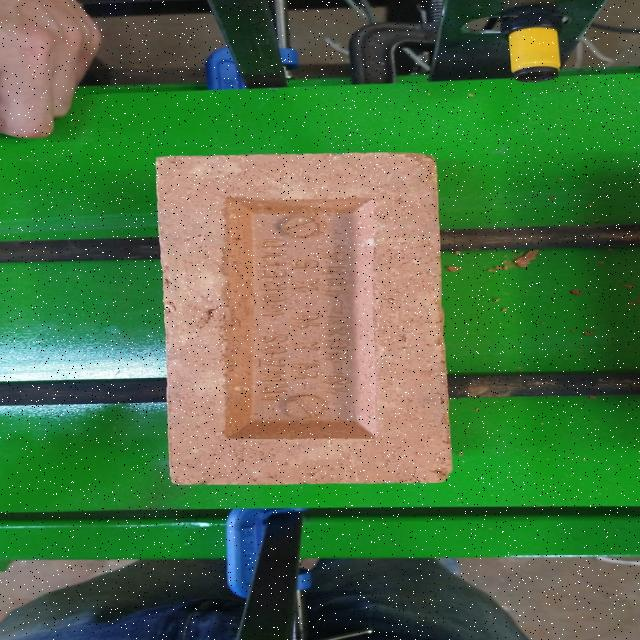bricks: (155, 153, 449, 484)
